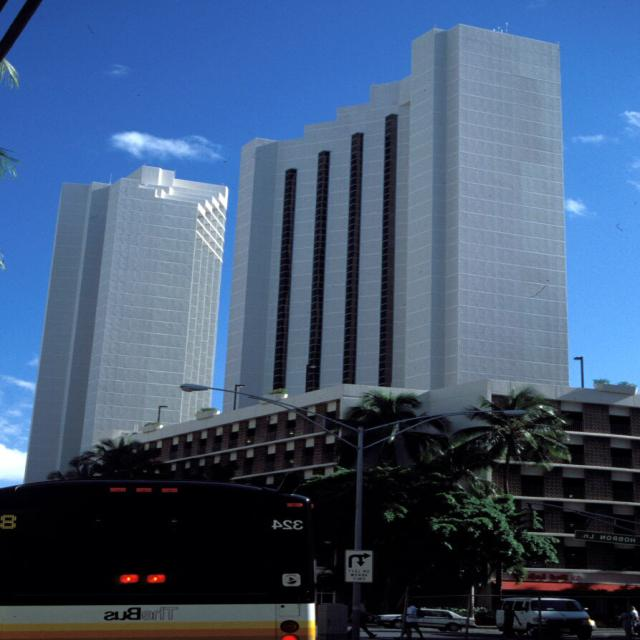building: (223, 22, 580, 412), (88, 384, 640, 570), (28, 165, 232, 483)
